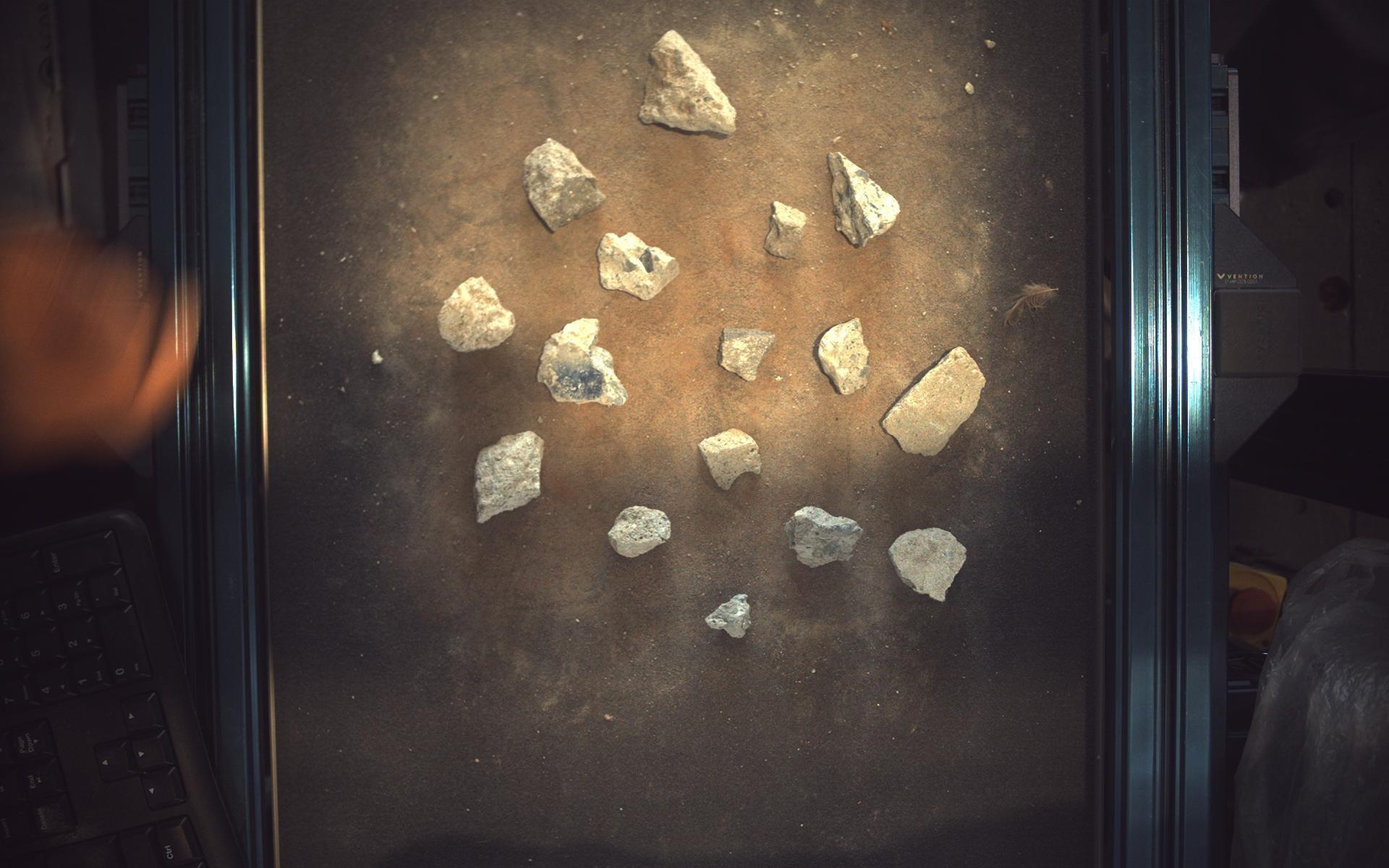concrete: (884, 346, 987, 456), (640, 29, 736, 135), (538, 318, 628, 406), (523, 137, 606, 230), (829, 150, 902, 247), (475, 431, 544, 524), (438, 276, 516, 352), (891, 528, 967, 603), (598, 231, 679, 299), (786, 507, 865, 569), (819, 318, 871, 395), (700, 428, 763, 490), (608, 506, 671, 558), (721, 328, 776, 381), (765, 200, 808, 258), (706, 595, 752, 639)
